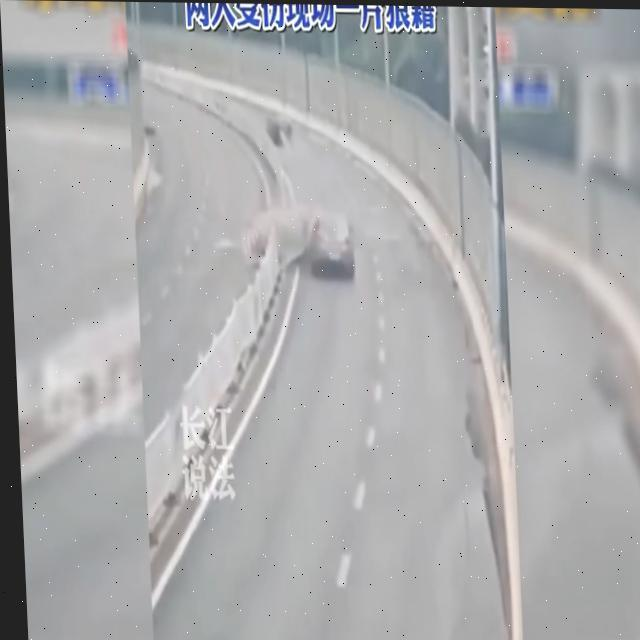single accident: (233, 143, 380, 308)
